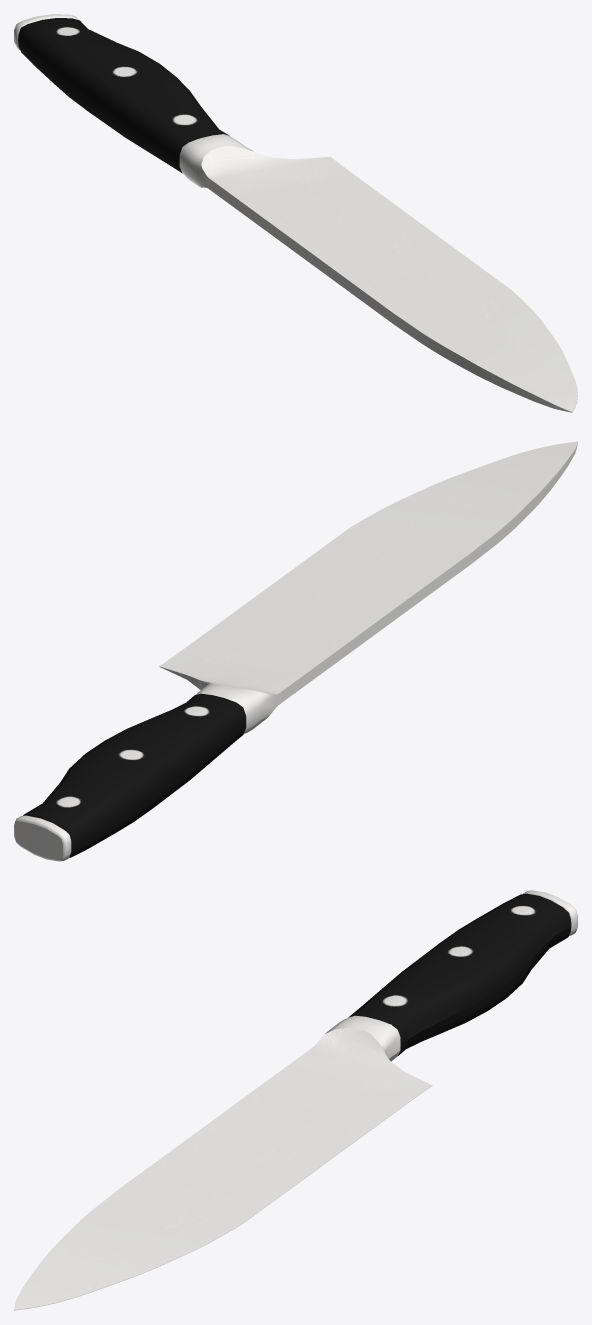
Rendered from knife.glb.
The picture shows the model from 3 angles, top to bottom: view 1: azimuth 30°, elevation 25°; view 2: azimuth 150°, elevation 25°; view 3: azimuth 330°, elevation 25°; orthographic projection. The views are drawn at different scales.
Visible parts, largest first — view 1: blade_low_Default OBJ_0; view 2: blade_low_Default OBJ_0; view 3: blade_low_Default OBJ_0.
Boxes of the visible parts, x1,y1,x2,y2 form: blade_low_Default OBJ_0: (14,14,577,412); blade_low_Default OBJ_0: (14,441,577,861); blade_low_Default OBJ_0: (14,890,577,1310).
Bounding box in the file's own units: 0.0438 × 0.0153 × 0.33.
Materials: 1 (1 with a texture image).
